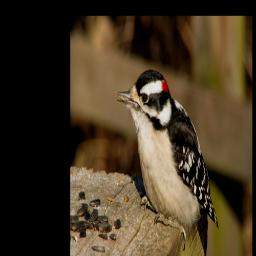Woodpecker: (115, 70, 220, 252)
